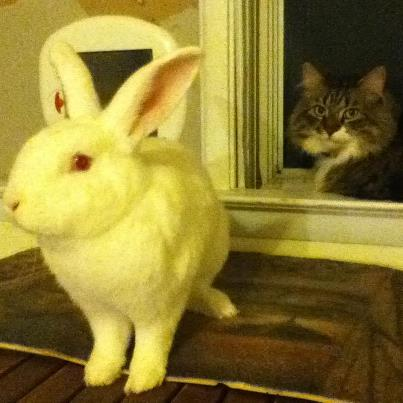bunny: (5, 31, 256, 399)
